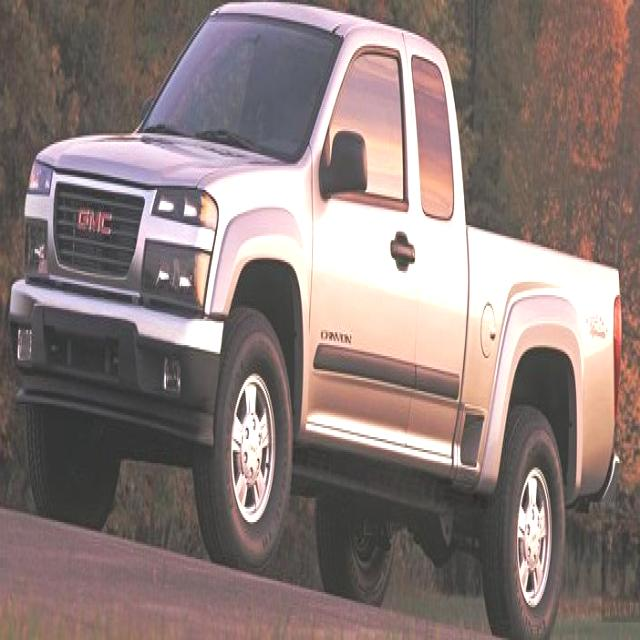CMT: (13, 13, 635, 610)
